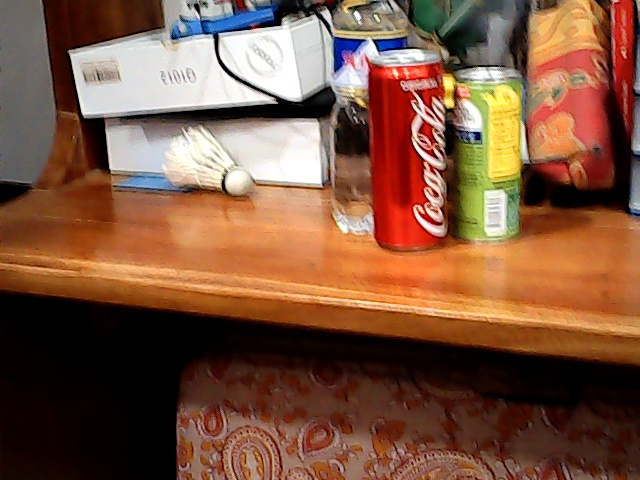Cola: (366, 42, 455, 259)
Pine Juice: (449, 59, 532, 251)
Summit Water: (324, 1, 372, 183)
